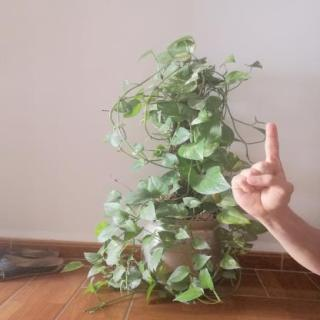BAA: (225, 116, 298, 226)
